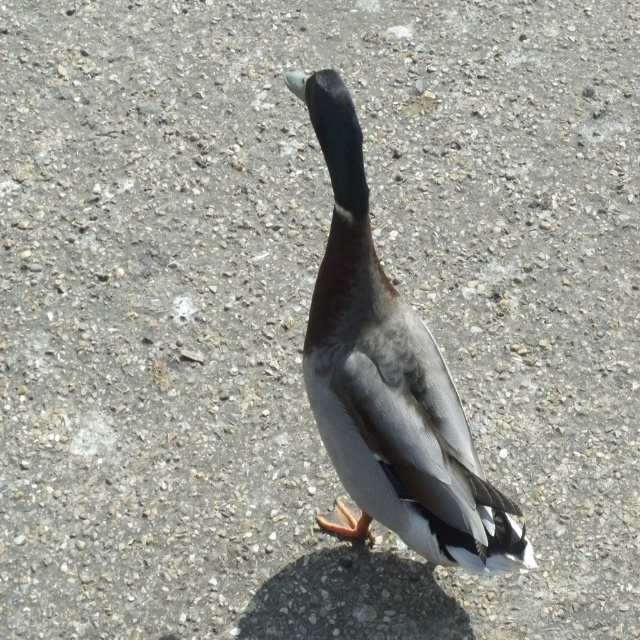Goose: (284, 68, 538, 576)
